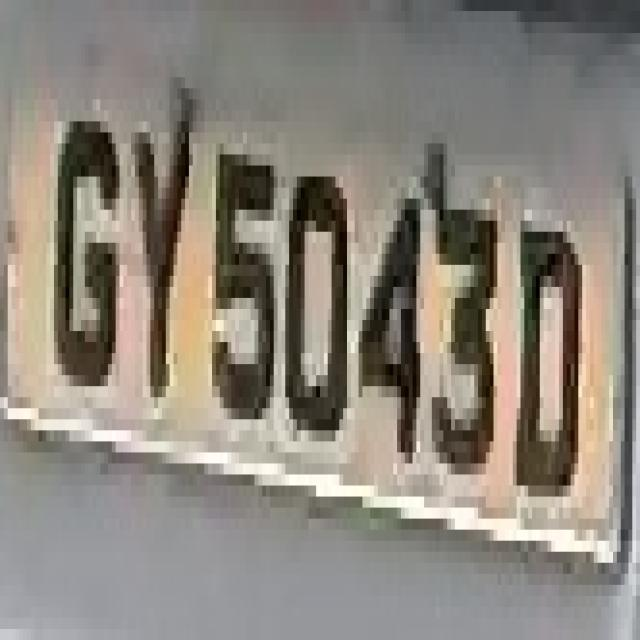0: (285, 110, 355, 463)
3: (436, 154, 497, 486)
4: (339, 144, 424, 464)
5: (204, 121, 282, 442)
D: (509, 176, 578, 530)
G: (43, 78, 124, 408)
Y: (116, 67, 196, 430)
